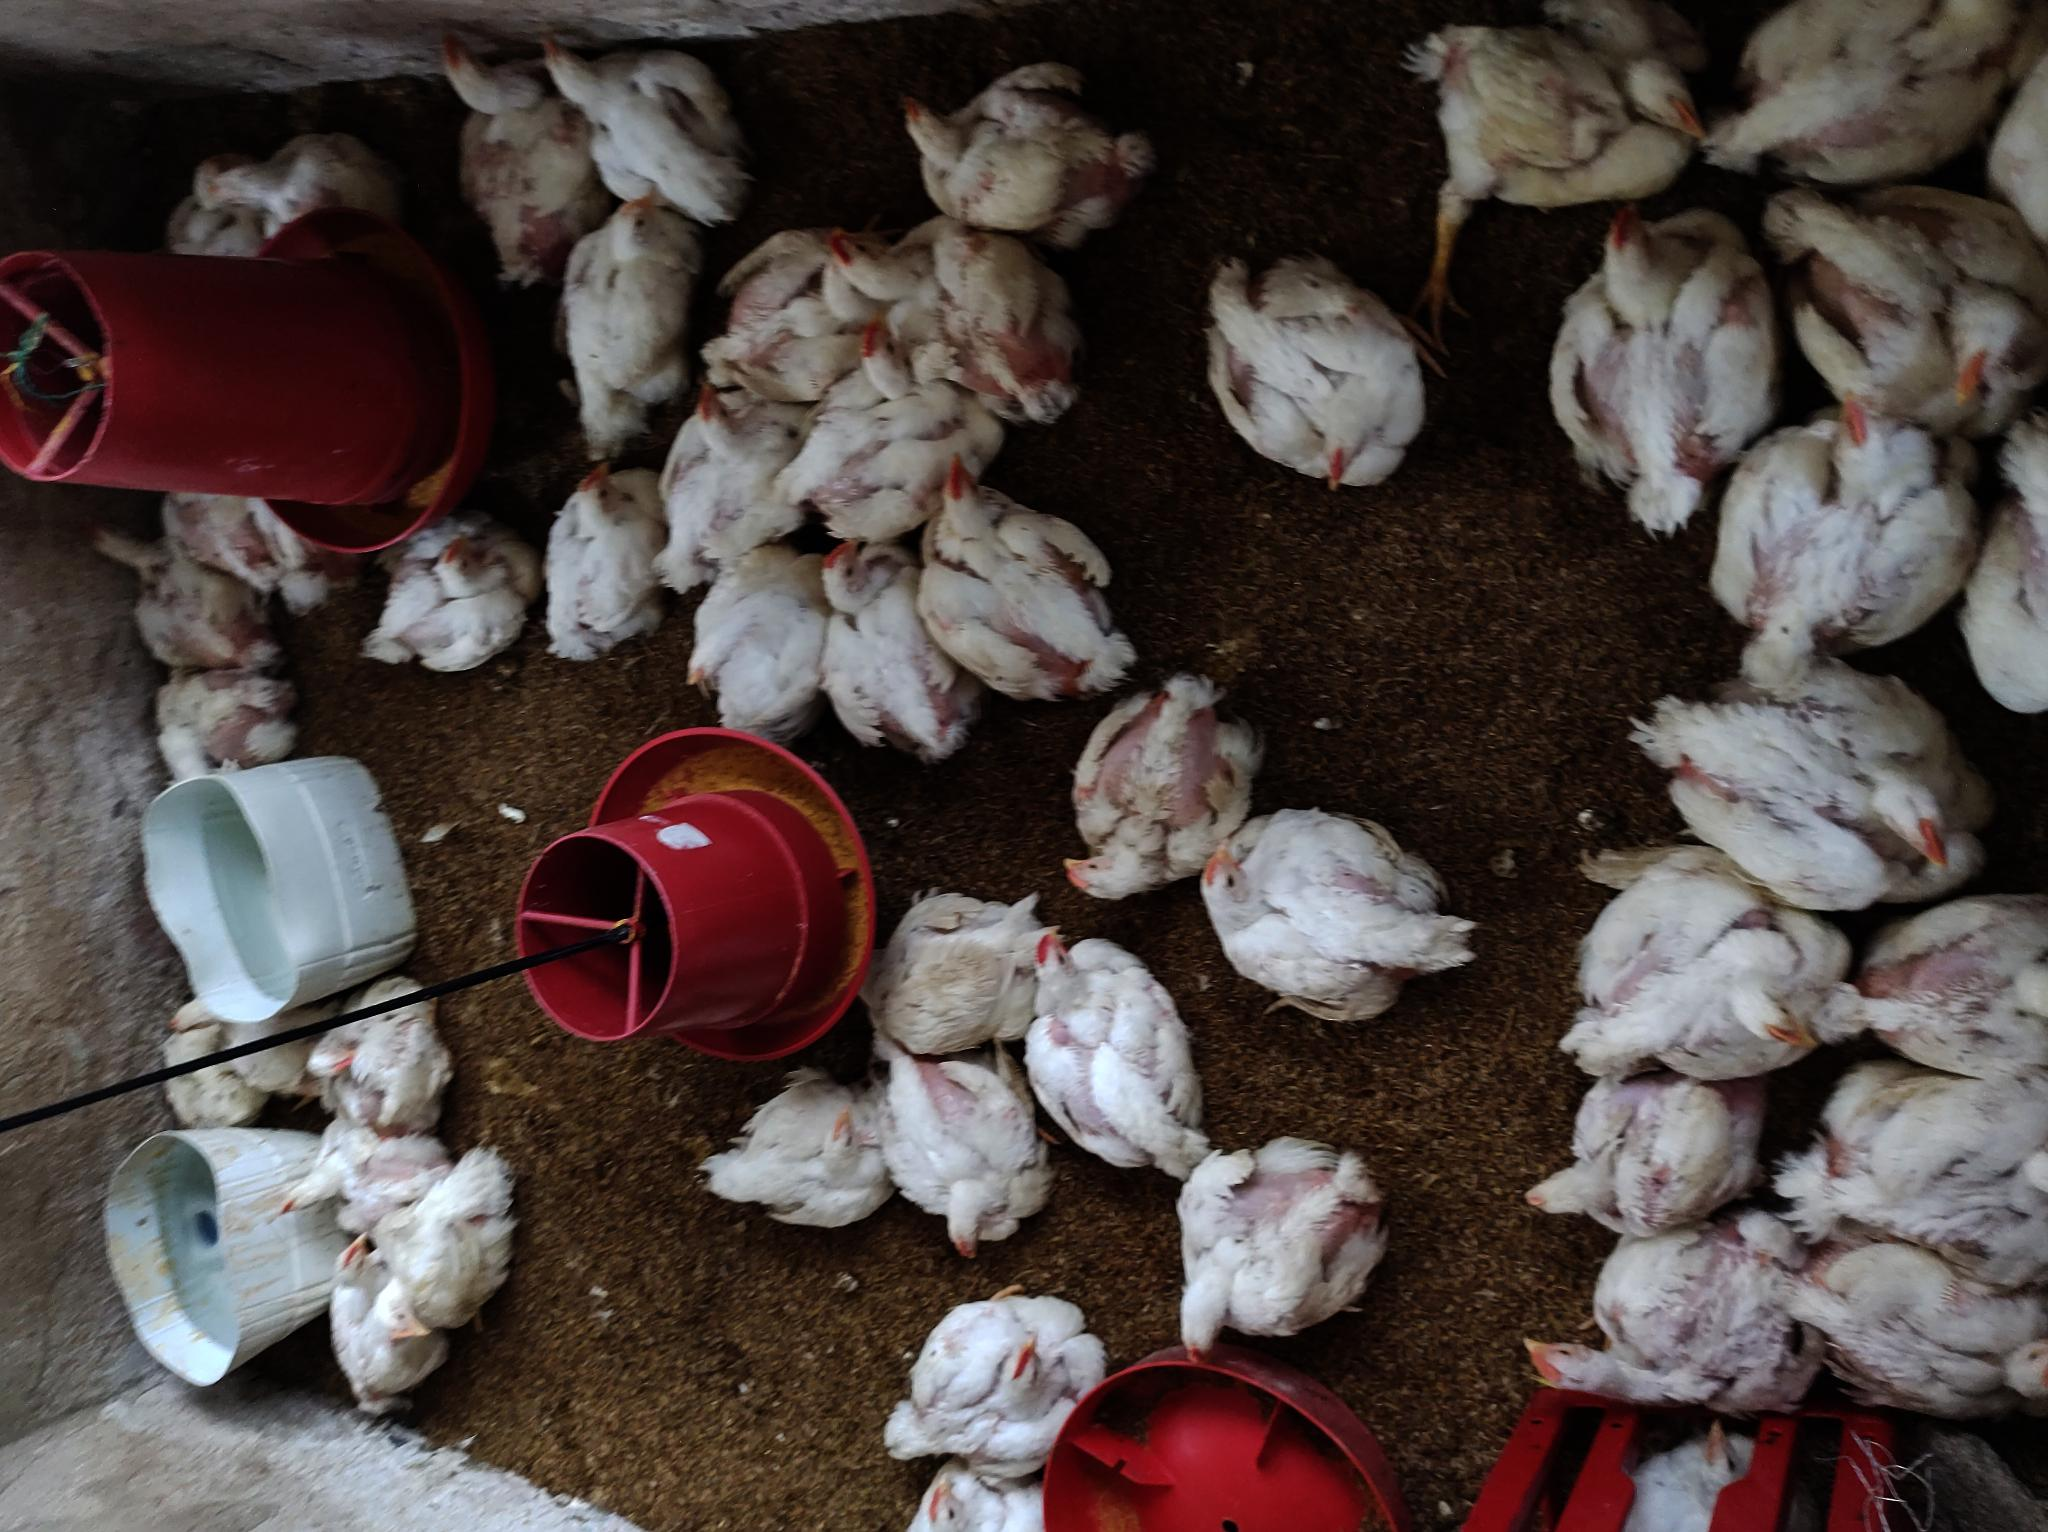Pollos: (1635, 653, 2000, 917), (1540, 196, 1784, 525), (1717, 389, 1980, 682), (1771, 180, 2048, 430), (1409, 0, 1718, 216), (1570, 842, 1866, 1065), (1191, 805, 1477, 1027), (1696, 0, 2040, 174), (1200, 241, 1427, 497), (915, 438, 1142, 692), (1507, 1229, 1813, 1418), (1047, 658, 1269, 908), (1170, 1123, 1393, 1368), (1758, 1238, 2046, 1416), (837, 225, 1083, 430), (891, 51, 1155, 241), (1017, 930, 1219, 1176), (787, 320, 997, 533), (1792, 1060, 2048, 1234), (420, 24, 589, 286), (1524, 1065, 1771, 1234), (880, 1286, 1102, 1474), (542, 19, 742, 220), (550, 187, 690, 463), (816, 531, 986, 758), (845, 888, 1059, 1069), (869, 1056, 1047, 1266), (660, 372, 816, 603), (1849, 892, 2048, 1062), (713, 232, 909, 394), (697, 1077, 880, 1241), (357, 512, 537, 674), (542, 460, 674, 669), (693, 547, 829, 742), (381, 1157, 528, 1336), (85, 517, 267, 660), (307, 970, 467, 1123), (278, 1112, 452, 1247), (154, 483, 330, 610), (319, 1223, 434, 1410), (188, 142, 394, 235), (146, 665, 296, 779), (1623, 1424, 1768, 1532), (891, 1455, 1047, 1532), (156, 1035, 254, 1123), (161, 995, 219, 1032)
